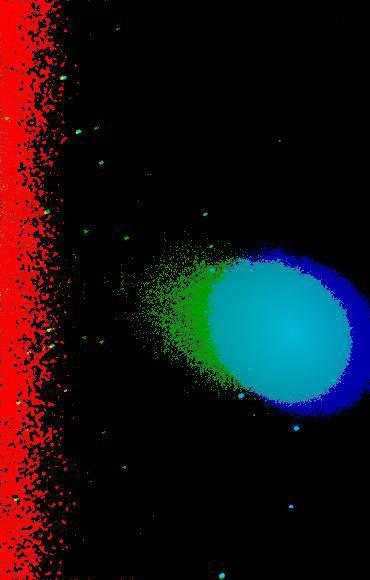star: (214, 358, 244, 388)
